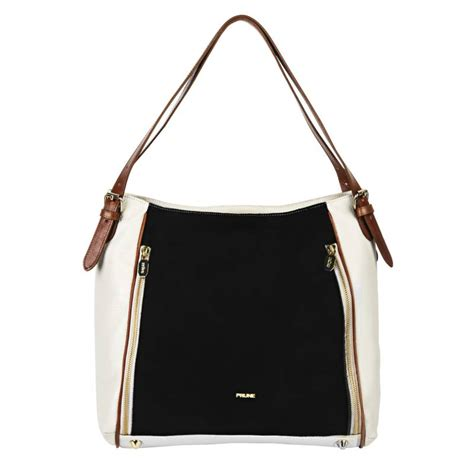gamuza: (94, 193, 379, 450)
